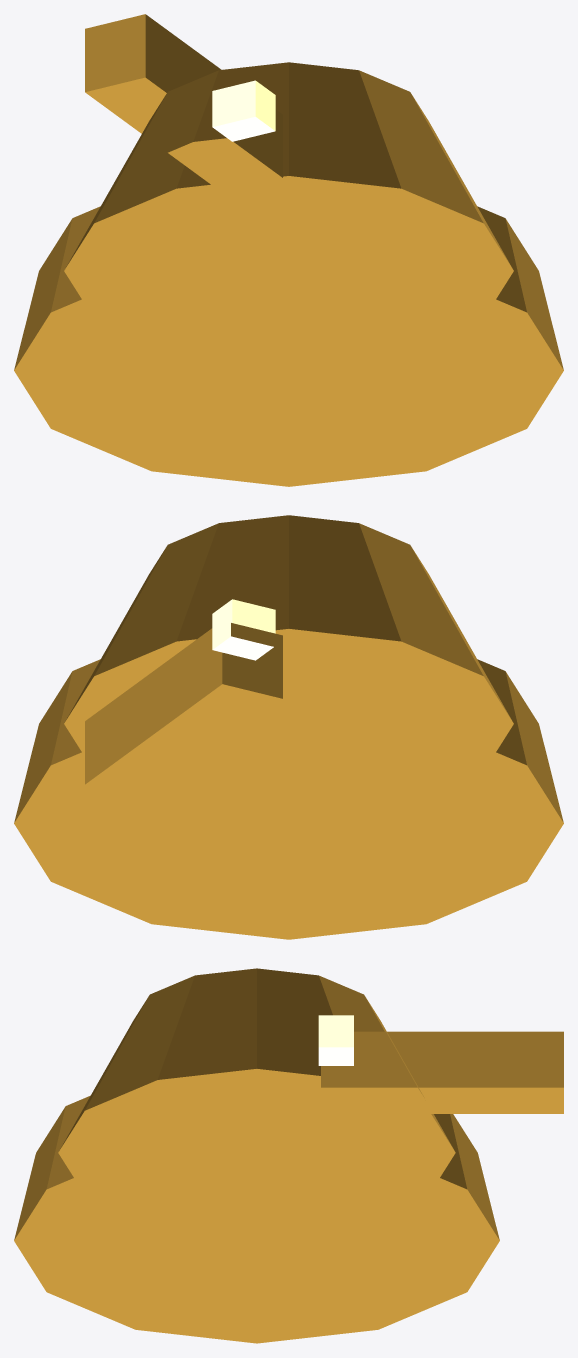
Rendered from ground-turret.glb.
3 renders of one model, top to bottom at view 1: azimuth 30°, elevation 25°; view 2: azimuth 150°, elevation 25°; view 3: azimuth 270°, elevation 25°, orthographic. The views are drawn at different scales.
Visible parts, largest first — view 1: ground-turret; view 2: ground-turret; view 3: ground-turret.
Boxes of the visible parts, box(x1,y1,x2,y2) form: ground-turret: box(14, 14, 563, 486); ground-turret: box(14, 515, 563, 939); ground-turret: box(14, 968, 563, 1343).
Size of the model in its own units: 1.1 by 0.55 by 1.25.
